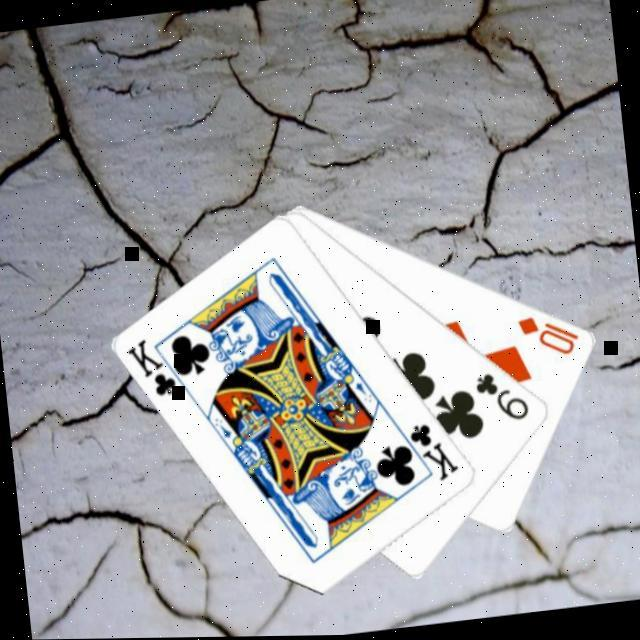10D: (516, 310, 587, 367)
9C: (472, 367, 536, 432)
KC: (395, 419, 466, 492), (125, 332, 196, 405)
